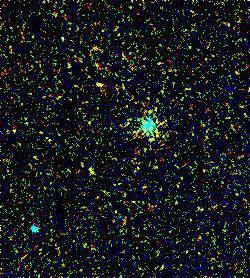star: (73, 159, 103, 189)
